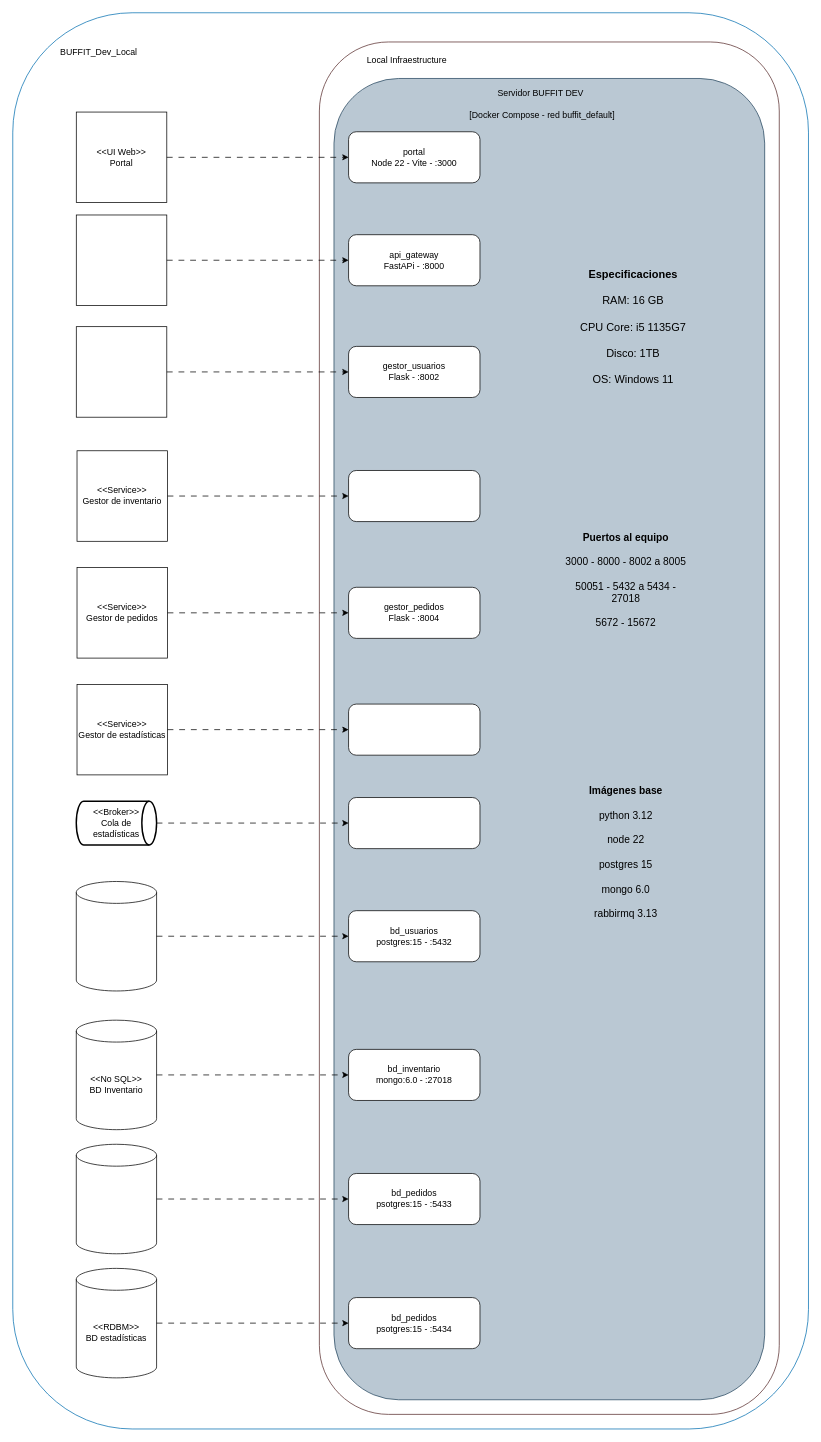
This 821x1442 diagram has some shape labels left out. The centre of each missing label's shape, as x and y in pixels:
"<<Orchestration>> API gateway" belongs at point (121, 260).
"<<RDBM>> BD pedidos" belongs at point (116, 1199).
"<<RDBM>> BD usuarios" belongs at point (116, 936).
"<<Service>> Gestor de Usuarios" belongs at point (121, 371).
"gestor_estadísticas Flask - :8005" belongs at point (414, 729).
"gestor_inventario FastAPI - :8003, :50051" belongs at point (414, 496).
"rabbitmq RabbirMQ 3.13 - :5672" belongs at point (414, 823).
